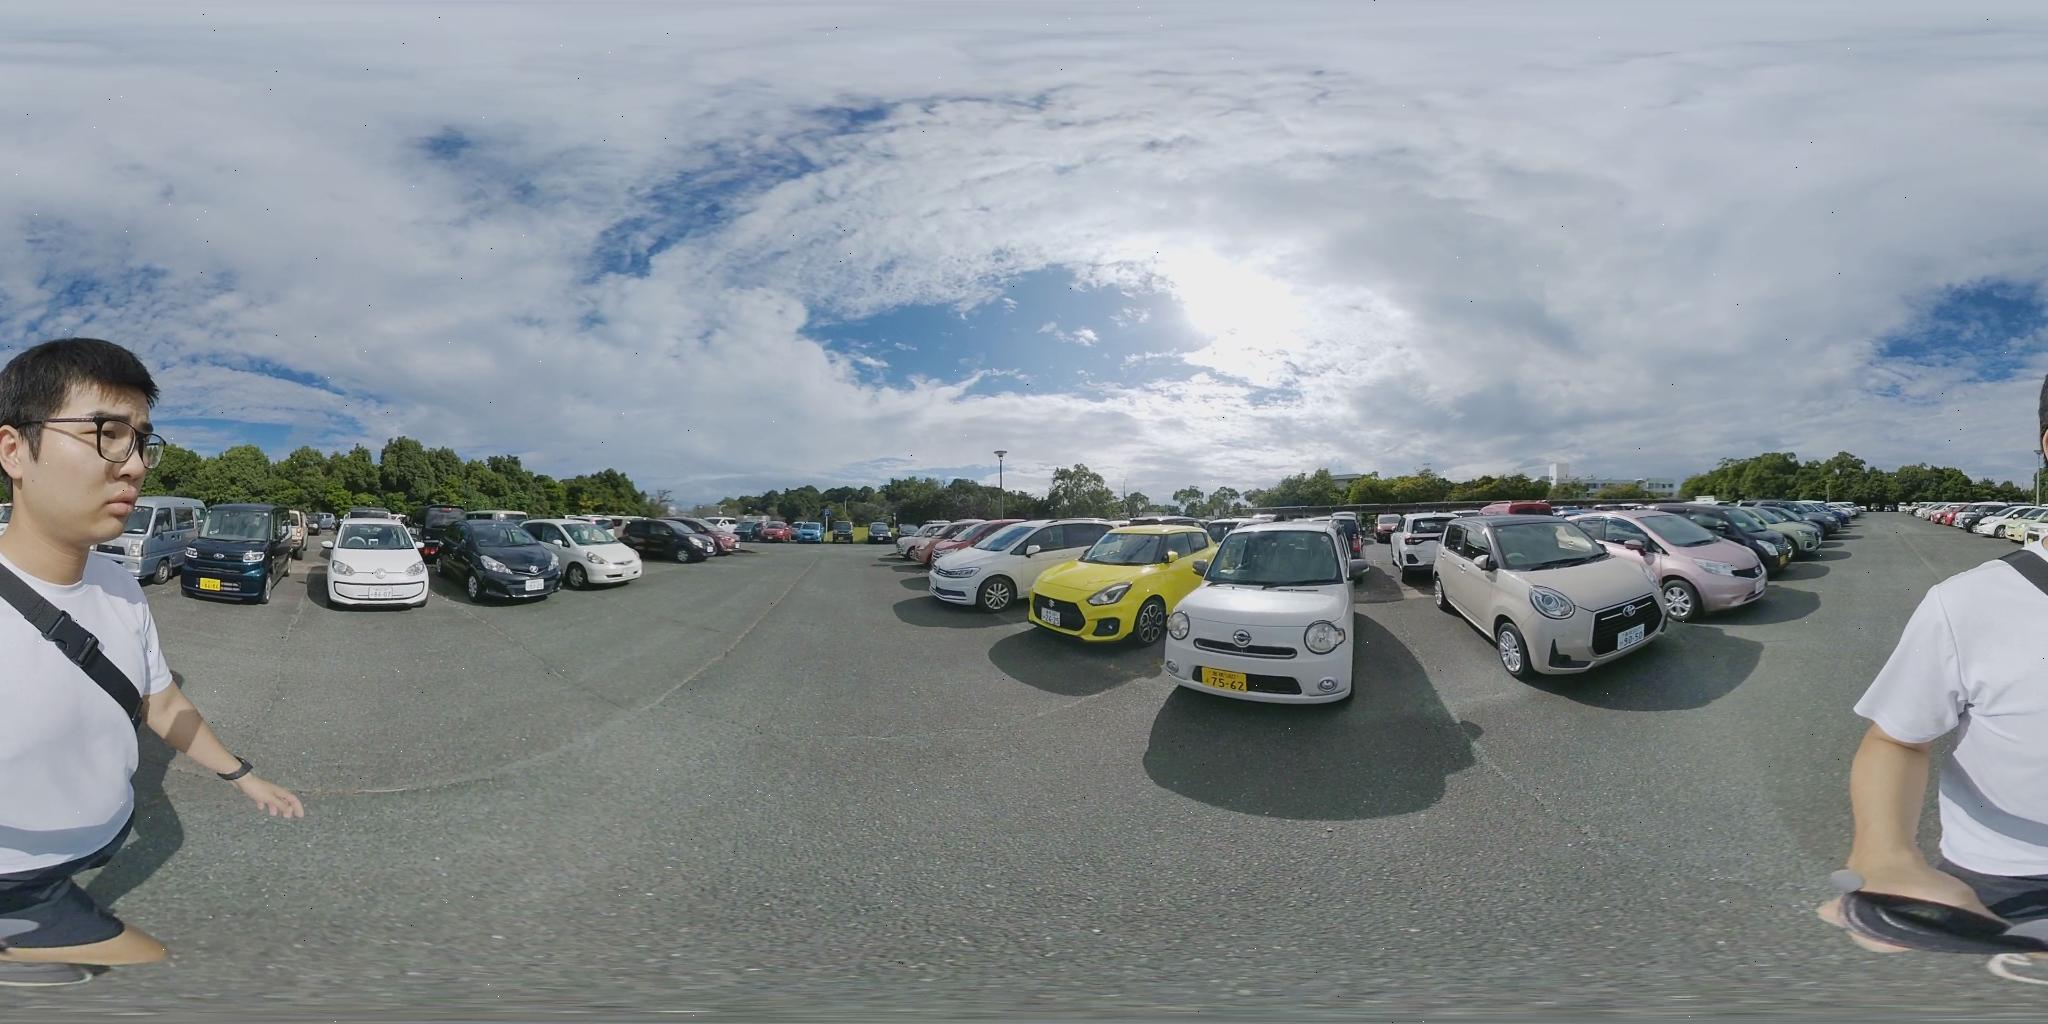car: (1429, 511, 1677, 679), (1152, 516, 1357, 708), (1024, 522, 1225, 643), (1558, 511, 1774, 616), (916, 521, 1128, 611), (419, 516, 575, 602), (166, 503, 286, 600), (1644, 508, 1796, 579), (526, 520, 652, 586), (1697, 503, 1827, 562), (333, 516, 415, 606), (616, 519, 720, 563), (901, 524, 989, 563), (1971, 503, 2044, 537), (1957, 503, 2017, 532), (1925, 503, 1991, 529), (1801, 502, 1869, 526), (751, 522, 806, 543), (1915, 503, 1957, 522), (789, 525, 823, 543)
